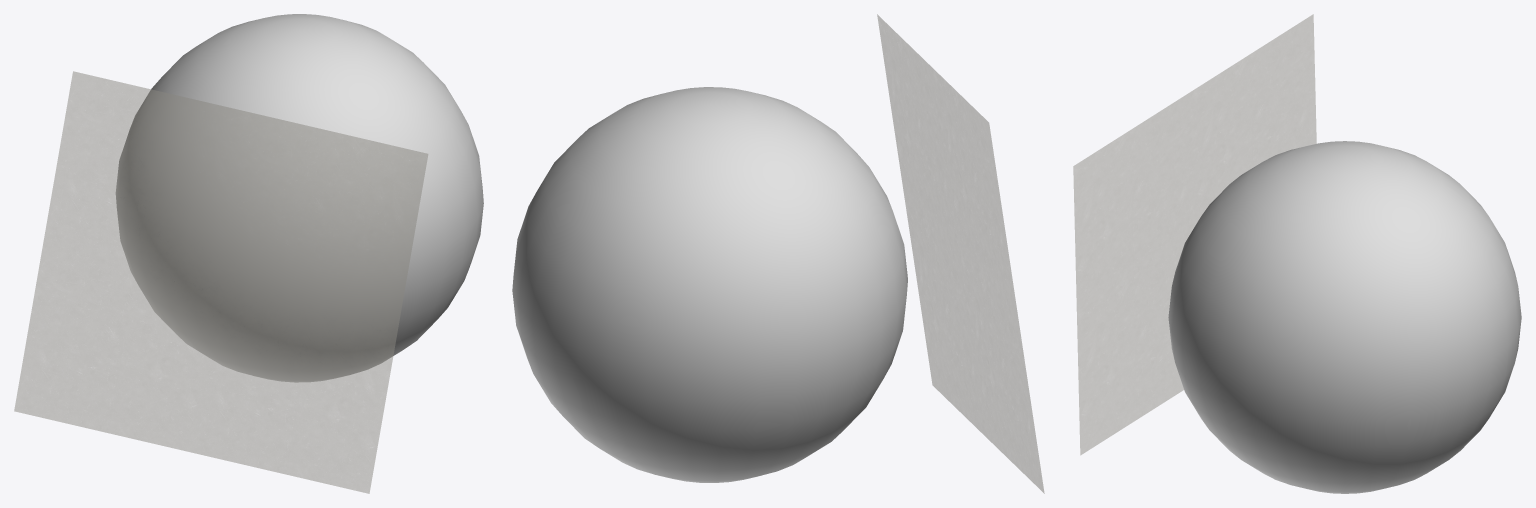
Rendered from glass.glb.
3 renders of one model, left to right at view 1: azimuth 30°, elevation 25°; view 2: azimuth 150°, elevation 25°; view 3: azimuth 270°, elevation 25°, orthographic. The views are drawn at different scales.
Parts seen in each view (by area): view 1: Plane, Sphere; view 2: Sphere, Plane; view 3: Sphere, Plane.
Boxes of the visible parts, bbox=[...] form: Plane: bbox=[14, 71, 428, 493]; Sphere: bbox=[115, 14, 483, 382]; Sphere: bbox=[512, 87, 907, 482]; Plane: bbox=[877, 14, 1044, 493]; Sphere: bbox=[1168, 141, 1521, 493]; Plane: bbox=[1073, 14, 1316, 455].
Size of the model in its own units: 2.87 by 2.25 by 2.54.
1 material, 1 textured.
